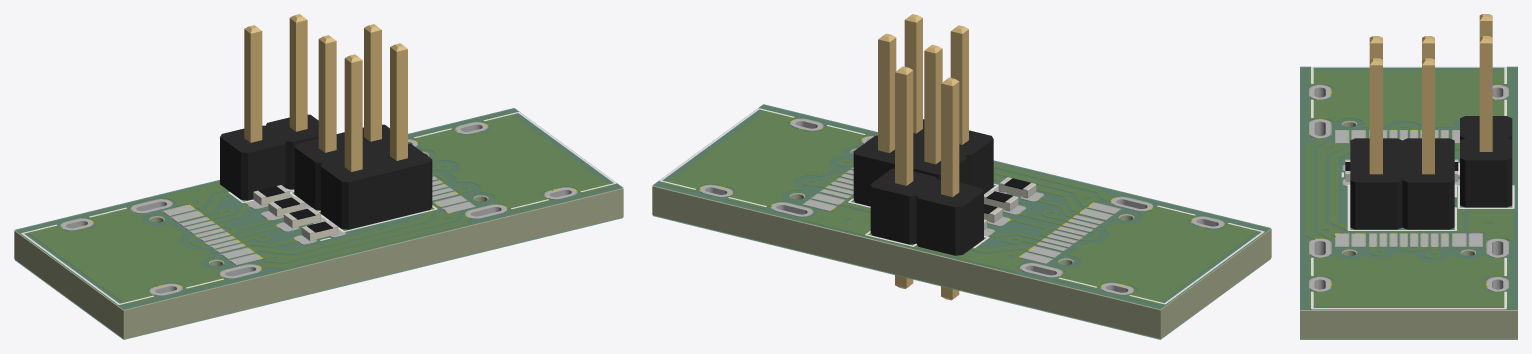
File: board.glb
The picture shows the model from 3 angles, left to right: view 1: azimuth 30°, elevation 25°; view 2: azimuth 150°, elevation 25°; view 3: azimuth 270°, elevation 25°; orthographic projection.
Parts seen in each view (by area): view 1: board_soldermask (×2), board_PCB, board_copper, PinHeader_2x02_P254mm_Vertical, PinHeader_1x02_P254mm_Vertical, board_pad, R_0603_1608Metric (×4), board_silkscreen; view 2: board_soldermask (×2), board_PCB, board_copper, PinHeader_1x02_P254mm_Vertical, PinHeader_2x02_P254mm_Vertical, board_pad, board_silkscreen, R_0603_1608Metric (×2); view 3: board_soldermask (×2), board_copper, board_PCB, PinHeader_2x02_P254mm_Vertical, PinHeader_1x02_P254mm_Vertical, board_pad, board_silkscreen.
Part boxes in pixels (x1=…): board_soldermask (×2): x1=15, y1=108, x2=623, y2=339; board_PCB: x1=14, y1=109, x2=623, y2=338; board_copper: x1=29, y1=115, x2=610, y2=304; PinHeader_2x02_P254mm_Vertical: x1=294, y1=24, x2=432, y2=229; PinHeader_1x02_P254mm_Vertical: x1=220, y1=14, x2=318, y2=200; board_pad: x1=61, y1=122, x2=576, y2=295; R_0603_1608Metric (×4): x1=253, y1=185, x2=338, y2=241; board_silkscreen: x1=21, y1=112, x2=616, y2=304; board_soldermask (×2): x1=652, y1=104, x2=1271, y2=339; board_PCB: x1=652, y1=106, x2=1271, y2=338; board_copper: x1=666, y1=111, x2=1256, y2=304; PinHeader_1x02_P254mm_Vertical: x1=870, y1=66, x2=983, y2=300; PinHeader_2x02_P254mm_Vertical: x1=853, y1=14, x2=993, y2=206; board_pad: x1=700, y1=119, x2=1223, y2=294; board_silkscreen: x1=659, y1=108, x2=1264, y2=304; R_0603_1608Metric (×2): x1=984, y1=177, x2=1036, y2=211; board_soldermask (×2): x1=1300, y1=66, x2=1517, y2=339; board_copper: x1=1306, y1=71, x2=1512, y2=306; board_PCB: x1=1300, y1=68, x2=1517, y2=338; PinHeader_2x02_P254mm_Vertical: x1=1350, y1=36, x2=1454, y2=229; PinHeader_1x02_P254mm_Vertical: x1=1460, y1=14, x2=1512, y2=207; board_pad: x1=1310, y1=85, x2=1507, y2=291; board_silkscreen: x1=1311, y1=66, x2=1514, y2=309.
Size of the model in its own units: 0.028 by 0.0115 by 0.0106.
